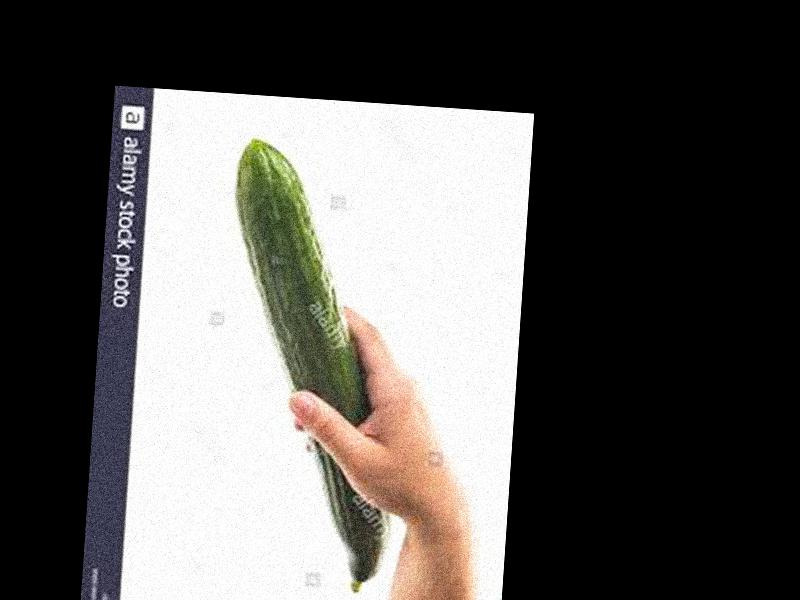Cucumber: (208, 137, 415, 596)
